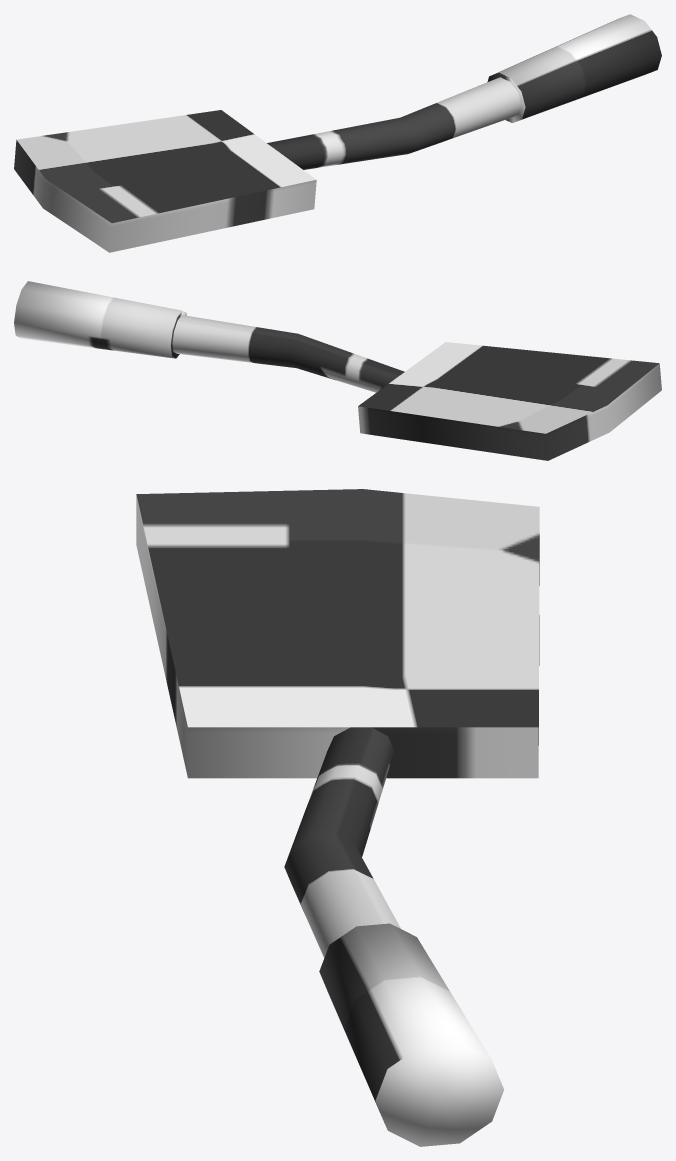
File: SM_Spatula_01.fbx
3 renders of one model, top to bottom at view 1: azimuth 30°, elevation 25°; view 2: azimuth 150°, elevation 25°; view 3: azimuth 270°, elevation 25°, orthographic. The views are drawn at different scales.
Parts seen in each view (by area): view 1: SM_Spatula_01.001; view 2: SM_Spatula_01.001; view 3: SM_Spatula_01.001.
Part boxes in pixels (<box>): SM_Spatula_01.001: <box>14,14,661,252</box>; SM_Spatula_01.001: <box>14,281,661,460</box>; SM_Spatula_01.001: <box>136,489,539,1146</box>.
Bounding box in the file's own units: 0.1348 × 0.4417 × 0.0388.
Materials: 1 (1 with a texture image).
